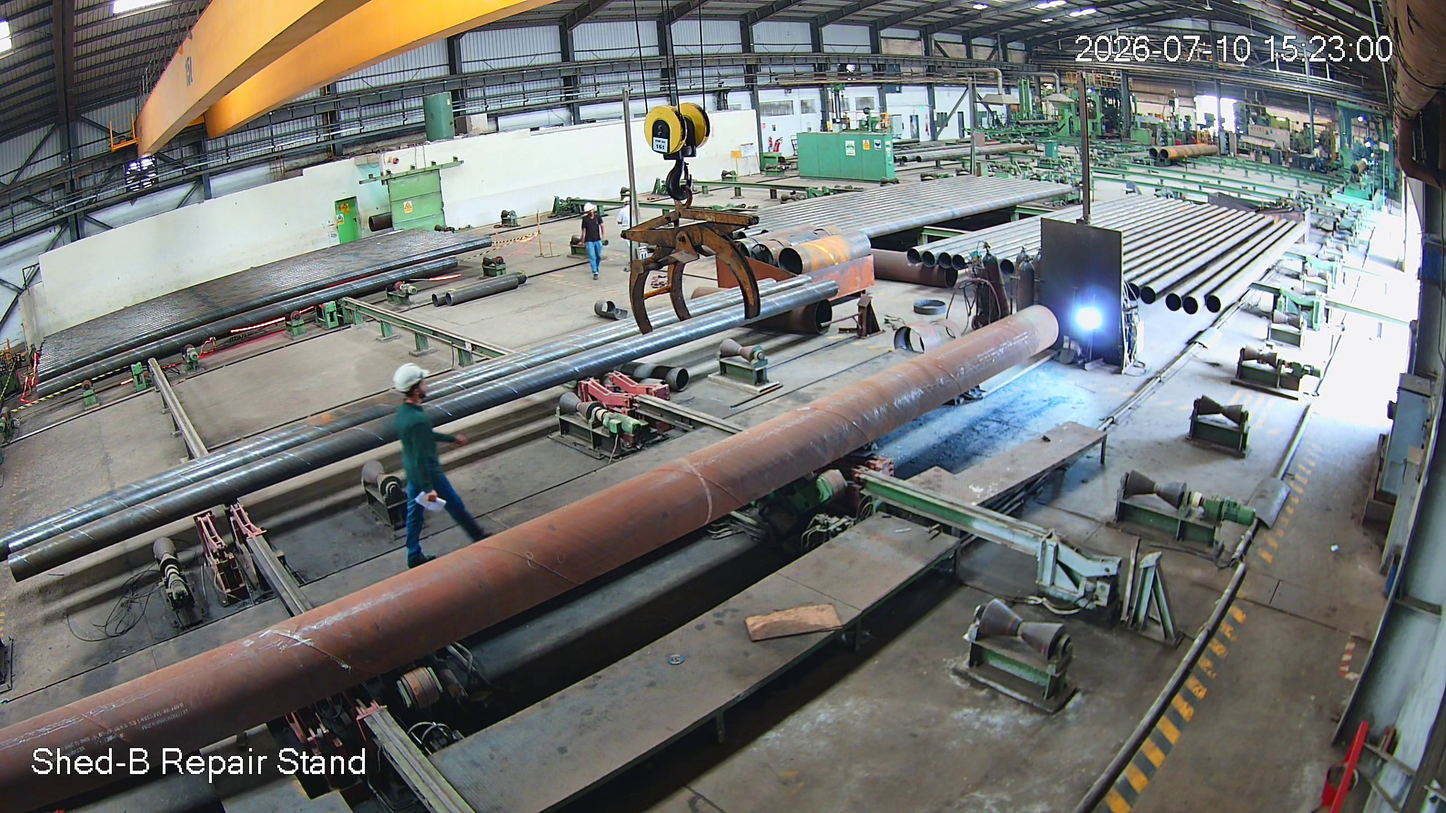Helmet: (383, 360, 458, 426)
Person: (381, 365, 483, 554)
